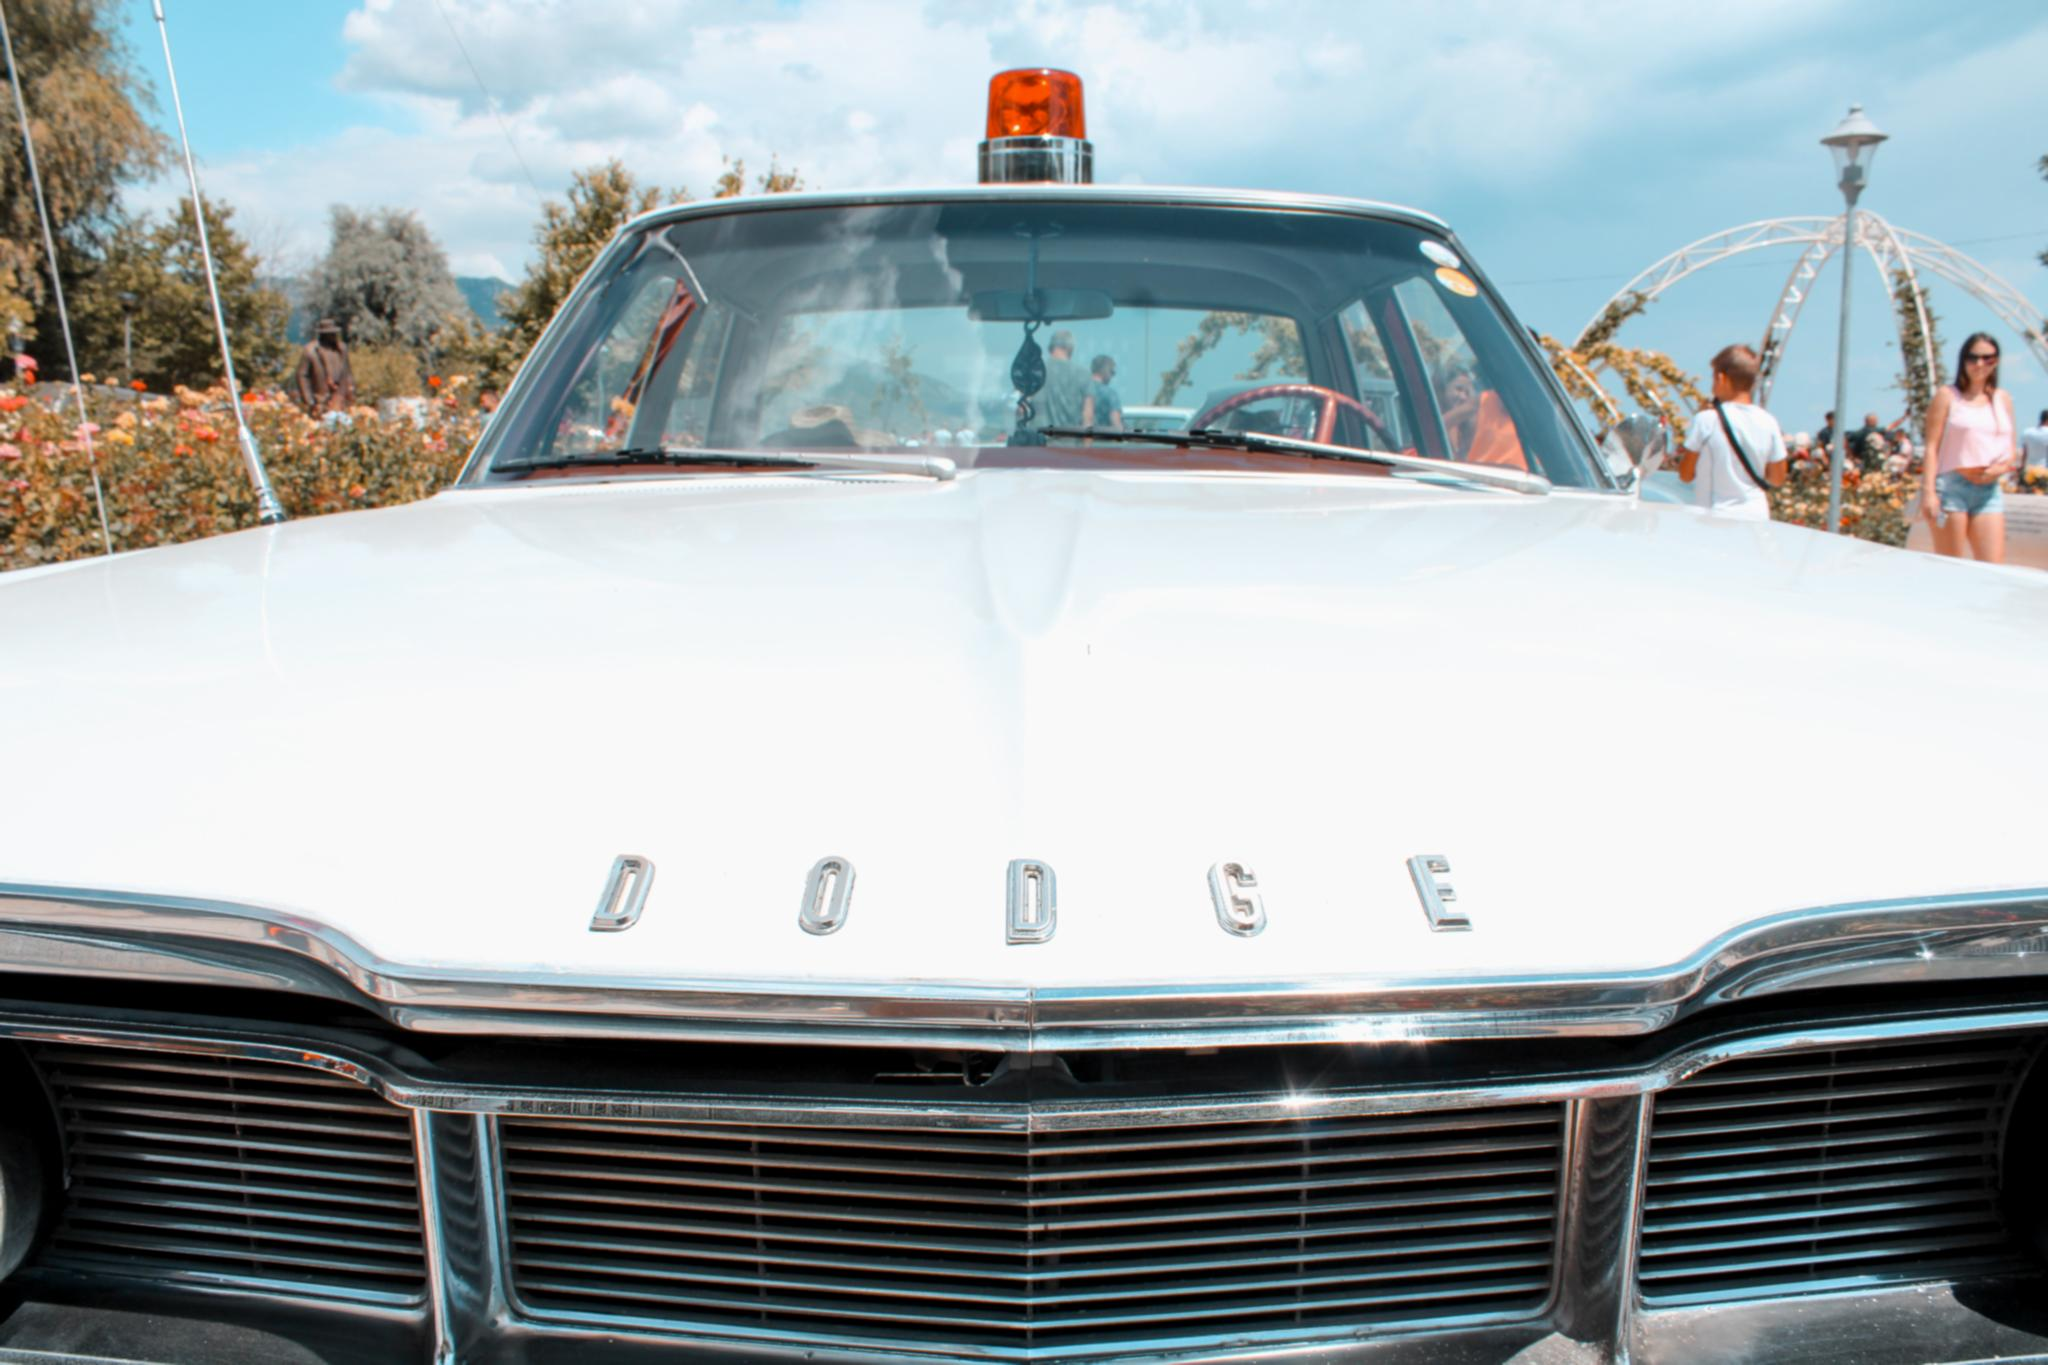dodge: (557, 803, 1520, 992)
